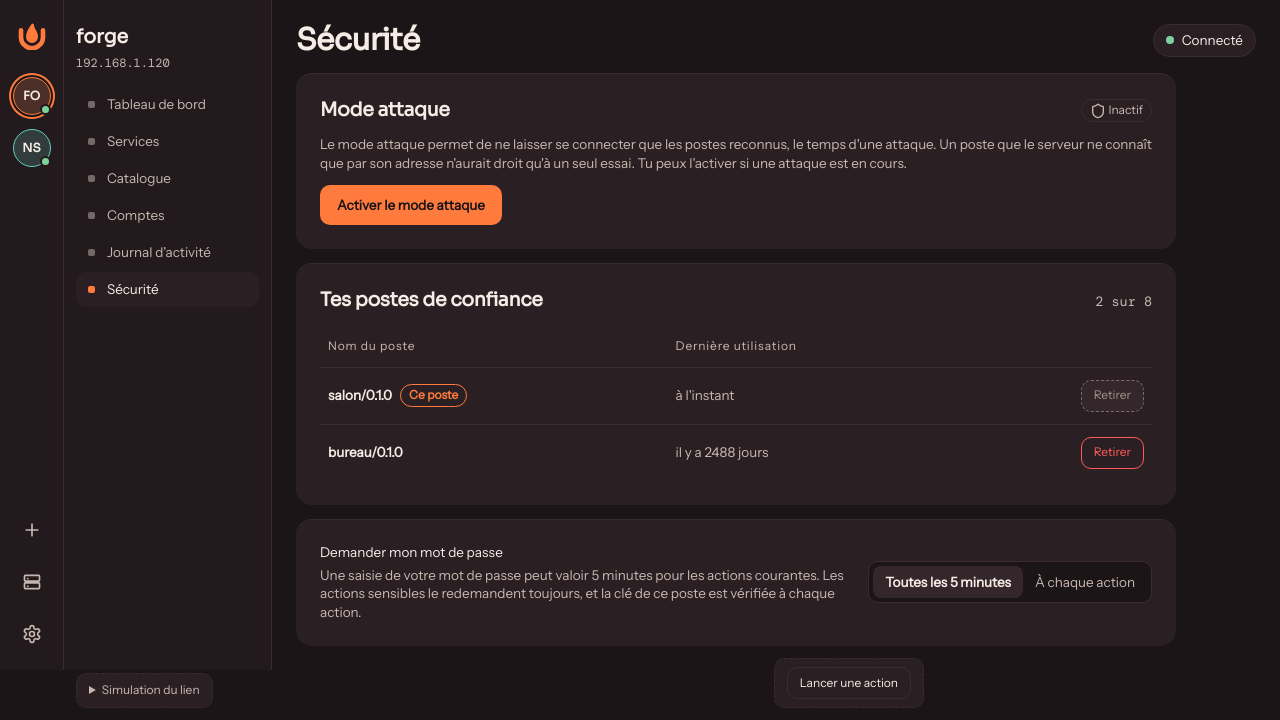
Test: Sécurité : retirer un poste › asks for the password in a confirmation, refuses a wrong one inside the window and clears the field
Step 1. Click the button with aria-label "Retirer bureau/0.1.0" → (1112, 453), box [1081, 437, 1144, 469]
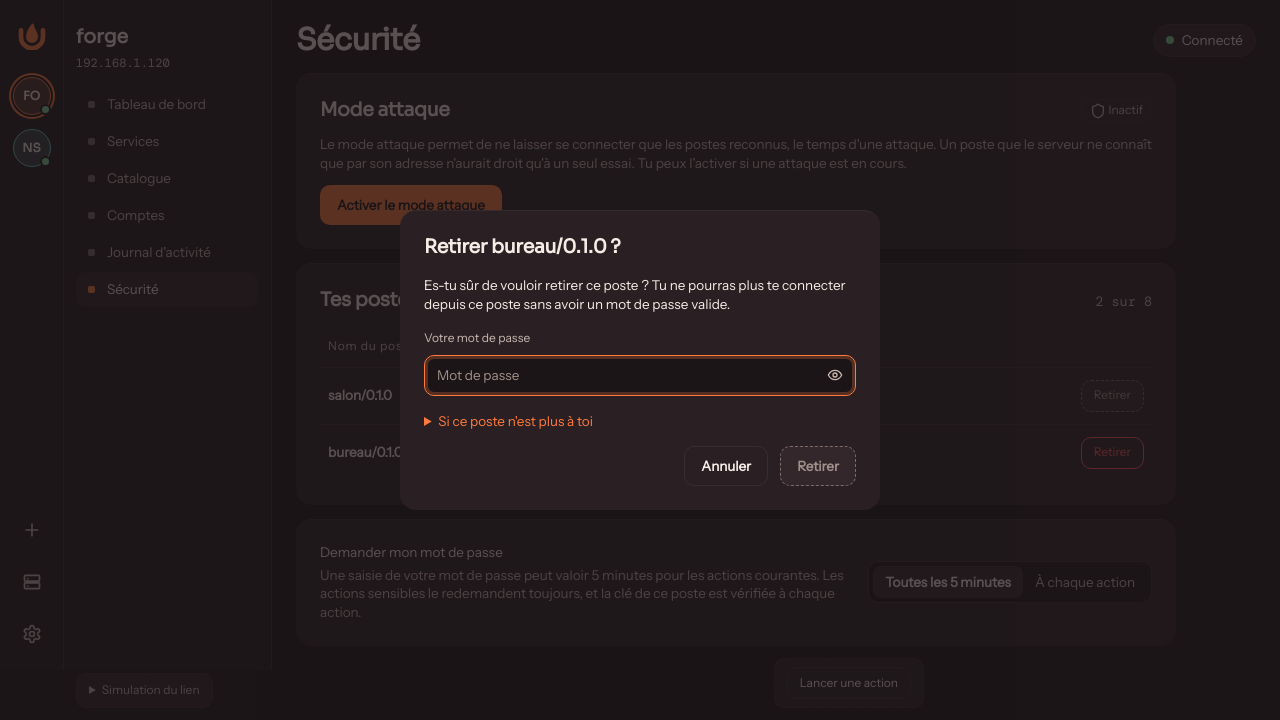
Check: the dialog shows "Retirer bureau/0.1.0 ?", box [424, 234, 620, 258]
Check: the dialog shows "Es-tu sûr de vouloir retirer ce poste ?", box [424, 277, 846, 312]
Step 2. Type "Faux-Mot-De-Passe-1" into the password field labelled "Votre mot de passe" → (620, 375), box [425, 356, 815, 395]
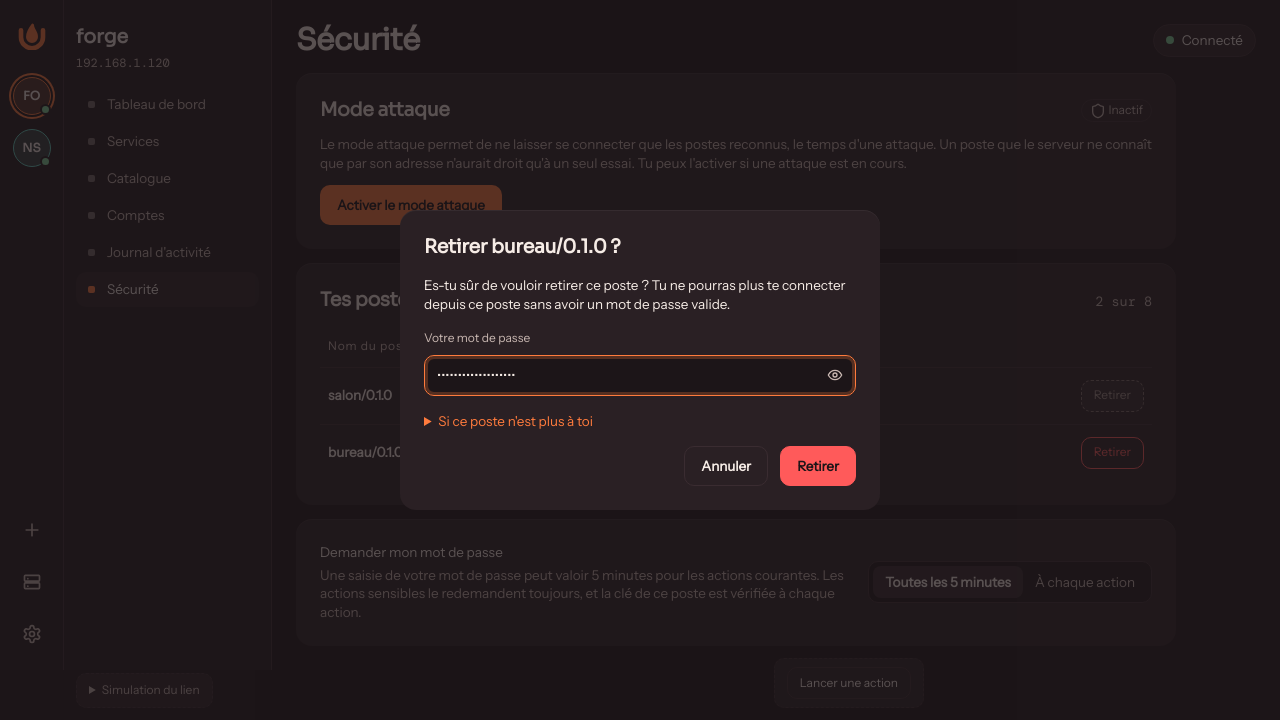
Step 3. Click the button "Retirer" → (818, 466), box [780, 446, 856, 486]
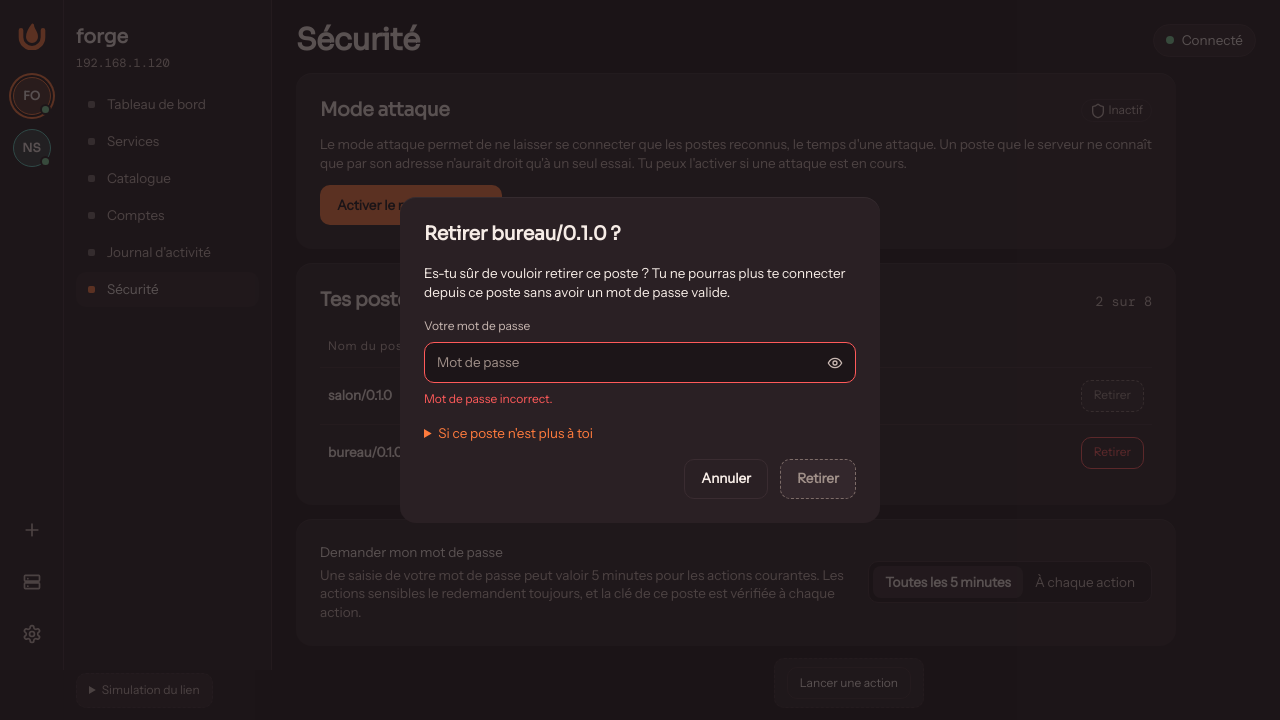
Check: the dialog shows "Mot de passe incorrect.", box [424, 391, 552, 406]
Check: the password field labelled "Votre mot de passe" is empty, box [425, 343, 815, 382]
